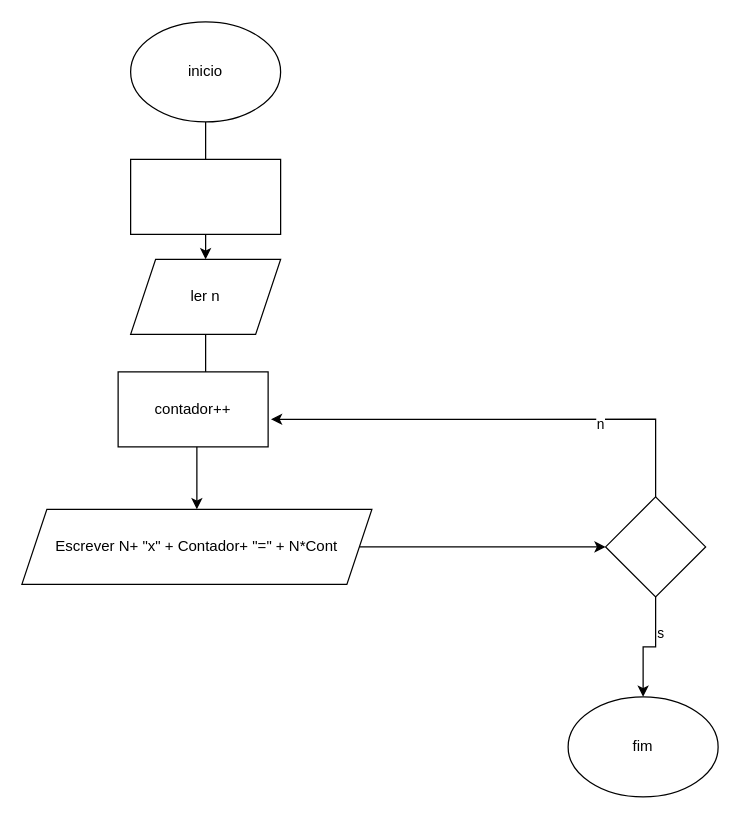
Image size: 740x819. Some labels were removed from this diagram. The shapes that lost their labels are listed below. From the top down, each one's centre as x and y in pixels, then its label:
the point at 205,196: contador = 0 mult = 0
the point at 655,546: contador == 10
